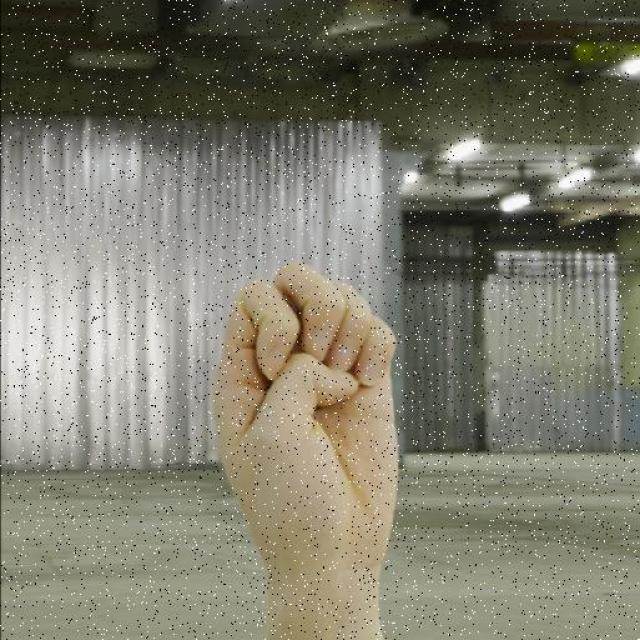E: (211, 258, 399, 567)
